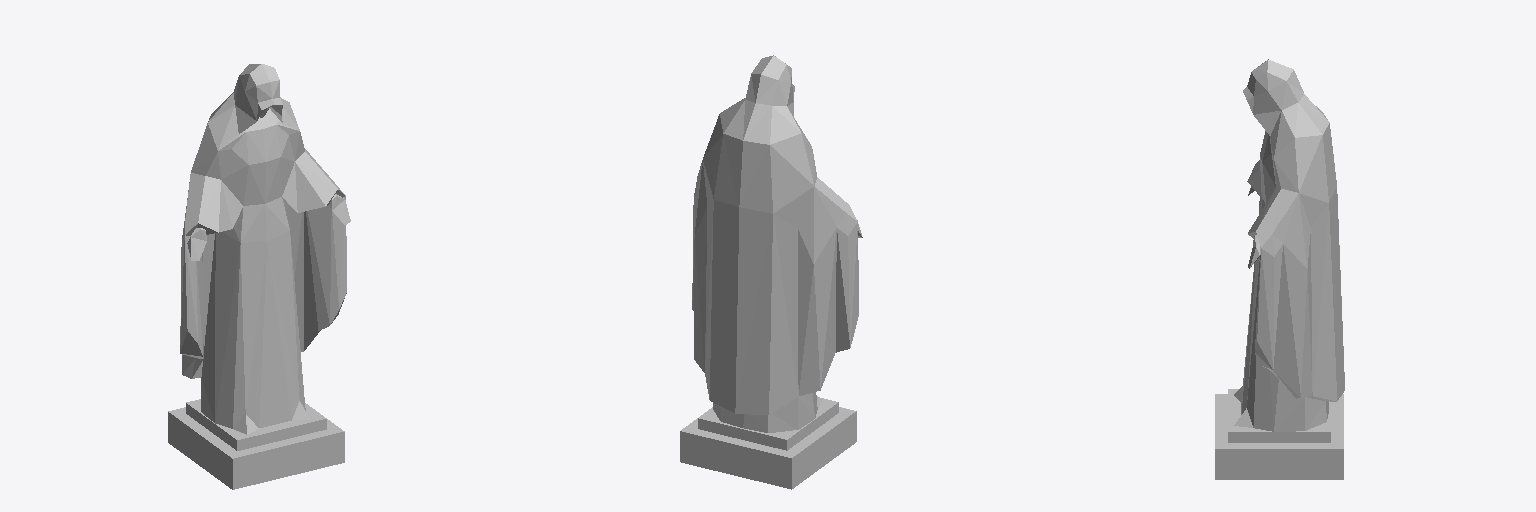
The model's file is Statue_Small.obj.
3 views of the same model, side by side, from view 1: azimuth 30°, elevation 25°; view 2: azimuth 150°, elevation 25°; view 3: azimuth 270°, elevation 25° (orthographic).
Visible parts, largest first — view 1: Statue02_b002; view 2: Statue02_b002; view 3: Statue02_b002.
Part boxes in pixels (x1,y1,x2,y2): Statue02_b002: (168,64,350,489); Statue02_b002: (680,55,862,489); Statue02_b002: (1215,59,1344,479).
Bounding box in the file's own units: 1.31 × 3.05 × 0.9164.